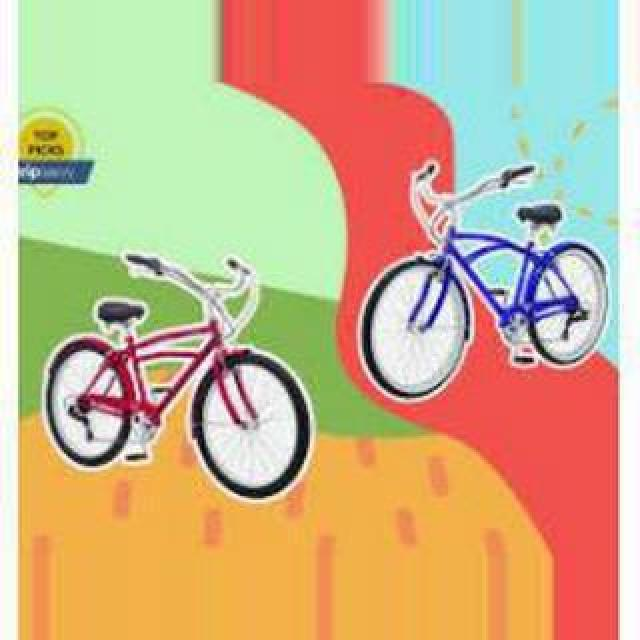Person: (40, 253, 318, 501), (357, 160, 611, 400)
